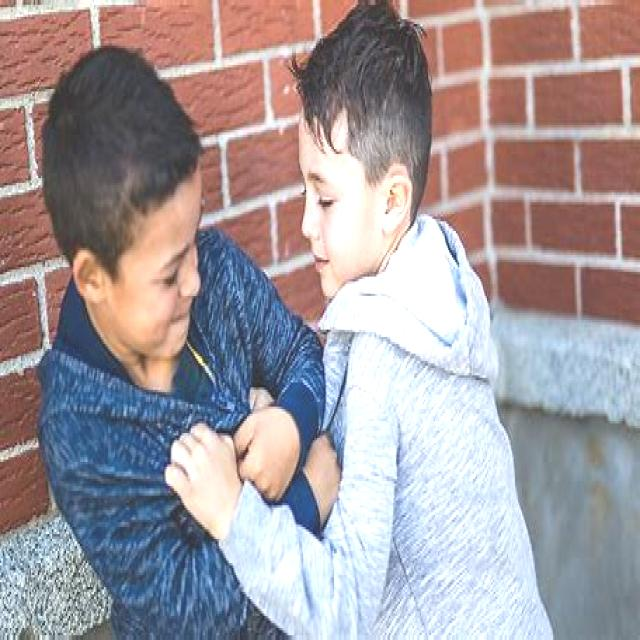fight: (30, 15, 545, 555)
